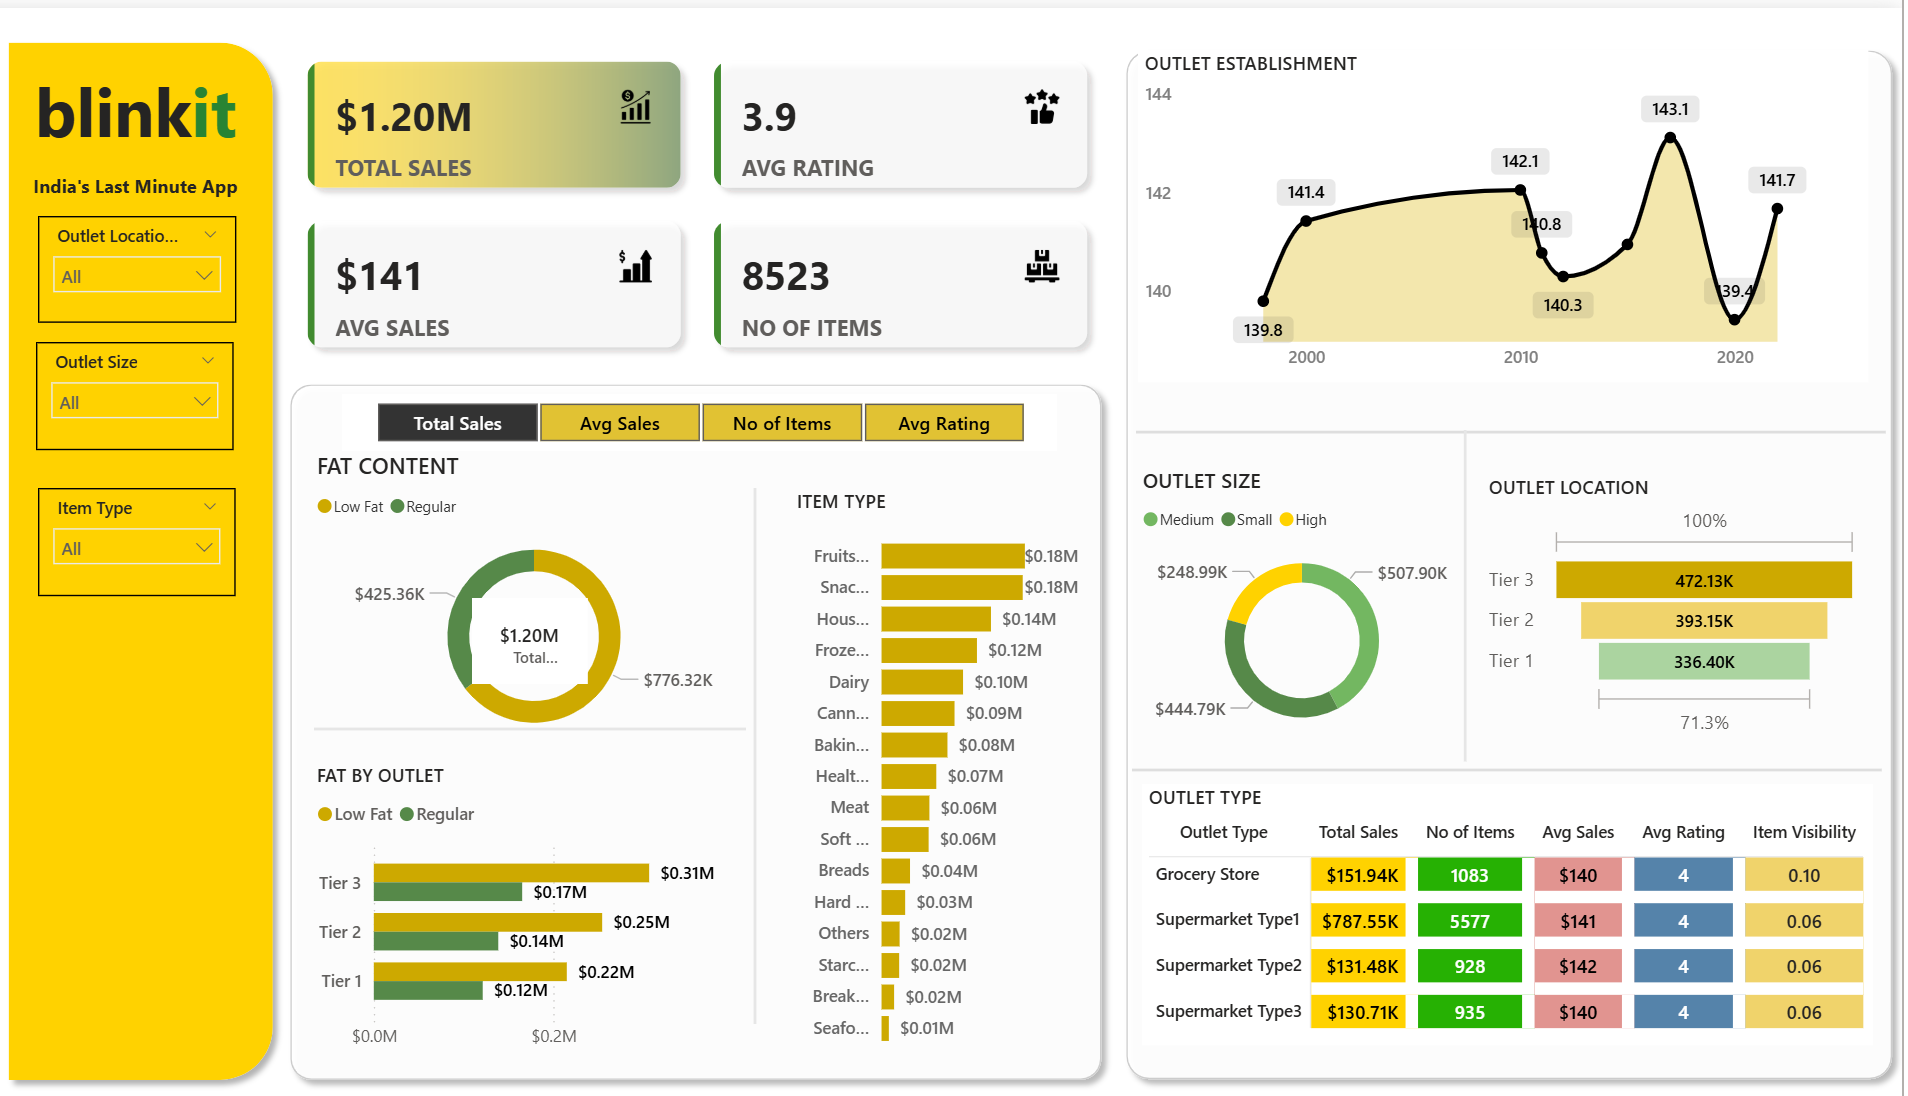

What the dashboard file says about the page in this screenshot:
{"tool":"powerbi","page":{"name":"Page 1","canvas":[1400,800],"ordinal":0},"visuals":[{"type":"shape","box":[25.3,16.4,208.5,765.9],"z":0},{"type":"textbox","box":[39,35.4,175.4,78],"z":1000},{"type":"textbox","box":[39,113.4,175.4,35.4],"z":2000},{"type":"cardVisual","fields":{"Data":["blinkit_data.Total Sales","blinkit_data.Avg Rating","blinkit_data.Avg Sales","blinkit_data.No of Items"]},"box":[233.9,21.3,597.2,241],"z":3000},{"type":"shape","box":[228.6,262.3,602.5,519.2],"z":4000},{"type":"donutChart","title":"FAT CONTENT","fields":{"Y":["blinkit_data.Total Sales"],"Category":["blinkit_data.Item Fat Content"]},"box":[252.3,318.6,323,220.6],"z":5000},{"type":"slicer","fields":{"Values":["Metrics.Metrics"]},"box":[274.7,278.2,515.7,40.8],"z":6000},{"type":"cardVisual","fields":{"Data":["blinkit_data.Total Sales"]},"box":[368.6,425.3,83.3,62],"z":7000},{"type":"clusteredBarChart","title":"FAT BY OUTLET","fields":{"Y":["blinkit_data.Total Sales"],"Category":["blinkit_data.Outlet Location Type"],"Series":["blinkit_data.Item Fat Content"]},"box":[251.6,544.1,315.4,216.2],"z":8000},{"type":"shape","box":[255.2,500.3,311.4,38.9],"z":9000},{"type":"shape","box":[566.6,346,13,386.4],"z":10000},{"type":"barChart","title":"ITEM TYPE","fields":{"Y":["blinkit_data.Total Sales"],"Category":["blinkit_data.Item Type"]},"box":[599,345.6,212.7,412.9],"z":11000},{"type":"shape","box":[831.6,21.5,570,759.6],"z":12000},{"type":"lineChart","title":"OUTLET ESTABLISHMENT","fields":{"Category":["blinkit_data.Outlet Establishment Year"],"Y":["Avg(blinkit_data.Sales)"]},"box":[849.2,30.3,526.3,239.3],"z":13000},{"type":"shape","box":[847.1,278.2,540.5,54.9],"z":14000},{"type":"donutChart","title":"OUTLET SIZE","fields":{"Y":["blinkit_data.Total Sales"],"Category":["blinkit_data.Outlet Size"]},"box":[847.1,329.6,239.2,205.6],"z":15000},{"type":"funnel","title":"OUTLET LOCATION","fields":{"Y":["Sum(blinkit_data.Sales)"],"Category":["blinkit_data.Outlet Location Type"]},"box":[1097.2,335.9,276.8,193.2],"z":16000},{"type":"pivotTable","title":"OUTLET TYPE","fields":{"Rows":["blinkit_data.Outlet Type"],"Values":["blinkit_data.Total Sales","blinkit_data.No of Items","blinkit_data.Avg Sales","blinkit_data.Avg Rating","Avg(blinkit_data.Item Visibility)"]},"box":[851.8,559.9,527,188.3],"z":17000},{"type":"slicer","fields":{"Values":["blinkit_data.Outlet Location Type"]},"box":[56.9,150.4,142.8,77.1],"z":18000},{"type":"shape","box":[844.9,539.2,540.7,20.2],"z":19000},{"type":"shape","box":[1072.2,304.8,24.8,239.2],"z":20000},{"type":"slicer","fields":{"Values":["blinkit_data.Outlet Size"]},"box":[54.8,240.8,142.7,77.9],"z":21000},{"type":"slicer","fields":{"Values":["blinkit_data.Item Type"]},"box":[56.2,346,142.7,77.9],"z":22000}]}

Visuals, with their boxes in screenshot pixels (x1, y1, x2, y2), scaled from the page's 1400x800 canvas onto the 1908x1096 screenshot:
shape: (left=34, top=22, right=319, bottom=1072)
textbox: (left=53, top=48, right=292, bottom=155)
textbox: (left=53, top=155, right=292, bottom=204)
cardVisual - blinkit_data.Total Sales x blinkit_data.Avg Rating: (left=319, top=29, right=1133, bottom=359)
shape: (left=312, top=359, right=1133, bottom=1071)
"FAT CONTENT" donutChart: (left=344, top=436, right=784, bottom=739)
slicer - Metrics.Metrics: (left=374, top=381, right=1077, bottom=437)
cardVisual - blinkit_data.Total Sales: (left=502, top=583, right=616, bottom=668)
"FAT BY OUTLET" clusteredBarChart: (left=343, top=745, right=773, bottom=1042)
shape: (left=348, top=685, right=772, bottom=739)
shape: (left=772, top=474, right=790, bottom=1003)
"ITEM TYPE" barChart: (left=816, top=473, right=1106, bottom=1039)
shape: (left=1133, top=29, right=1907, bottom=1070)
"OUTLET ESTABLISHMENT" lineChart: (left=1157, top=42, right=1875, bottom=369)
shape: (left=1154, top=381, right=1891, bottom=456)
"OUTLET SIZE" donutChart: (left=1154, top=452, right=1480, bottom=733)
"OUTLET LOCATION" funnel: (left=1495, top=460, right=1873, bottom=725)
"OUTLET TYPE" pivotTable: (left=1161, top=767, right=1879, bottom=1025)
slicer - blinkit_data.Outlet Location Type: (left=78, top=206, right=272, bottom=312)
shape: (left=1151, top=739, right=1888, bottom=766)
shape: (left=1461, top=418, right=1495, bottom=745)
slicer - blinkit_data.Outlet Size: (left=75, top=330, right=269, bottom=437)
slicer - blinkit_data.Item Type: (left=77, top=474, right=271, bottom=581)
